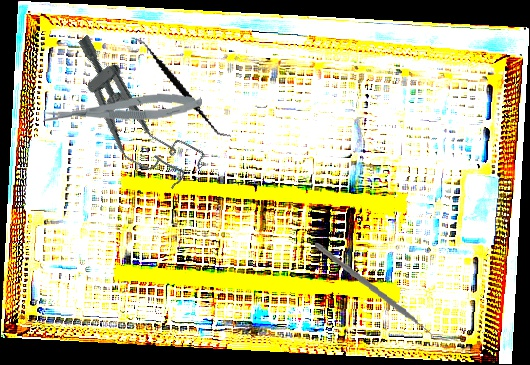Chopper: (305, 242, 441, 347)
Micro Scissor: (41, 90, 203, 128)
Spatula Surgical: (111, 35, 251, 139)
Speculum: (48, 25, 211, 202)
